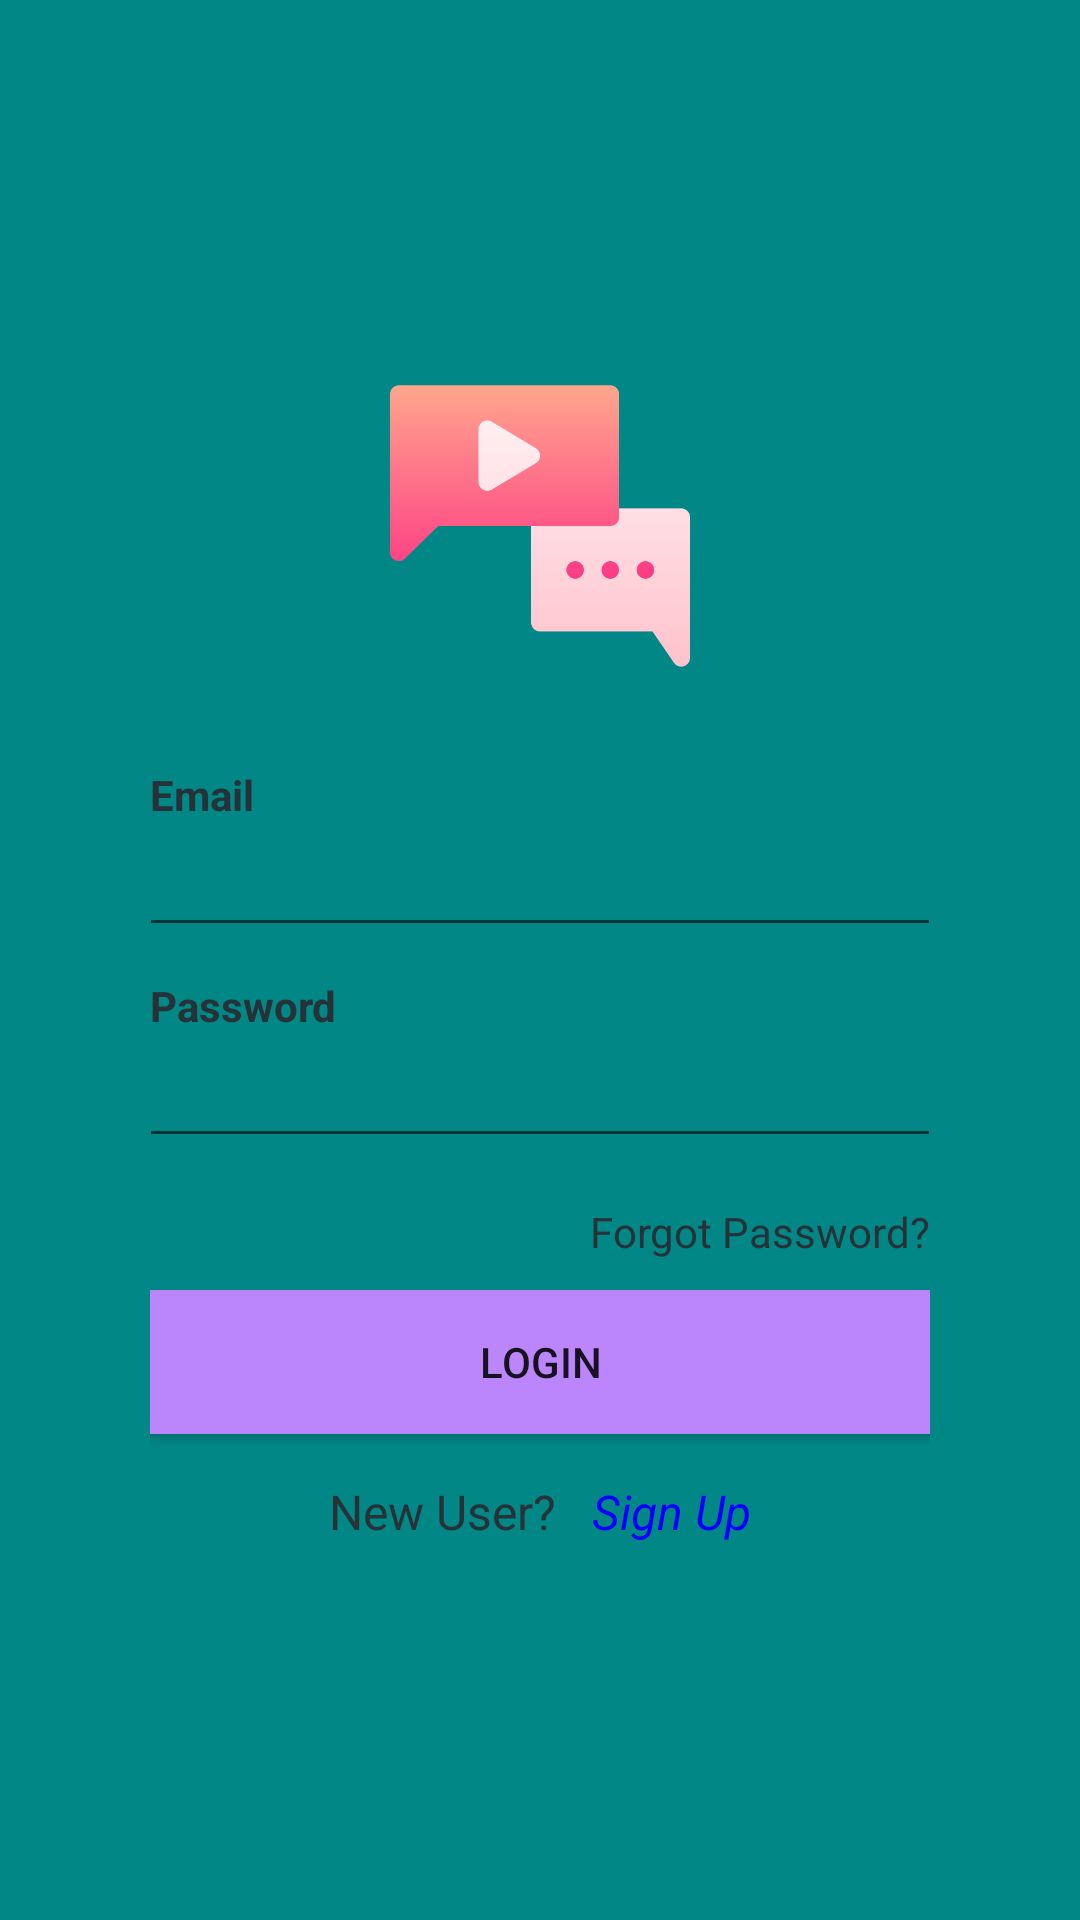

Icons on this 1080 × 1920 Android screen, each with the point to tap as [x,y]:
chat: [540,526]
